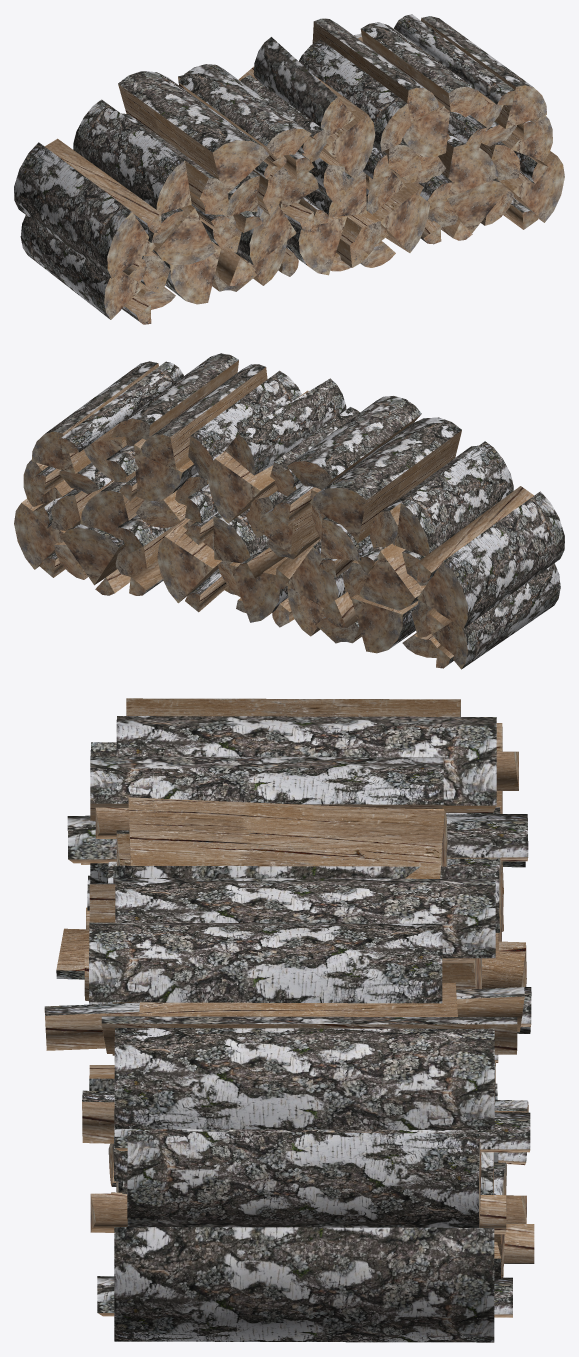
Rendered from Firewood.fbx.
The picture shows the model from 3 angles, top to bottom: view 1: azimuth 30°, elevation 25°; view 2: azimuth 150°, elevation 25°; view 3: azimuth 270°, elevation 25°; orthographic projection. The views are drawn at different scales.
Visible parts, largest first — view 1: Firewood; view 2: Firewood; view 3: Firewood.
Part boxes in pixels (left/top/right/bottom): Firewood: left=14, top=14, right=564, bottom=324; Firewood: left=14, top=353, right=564, bottom=669; Firewood: left=44, top=698, right=534, bottom=1342.
Size of the model in its own units: 266 by 100 by 124.
